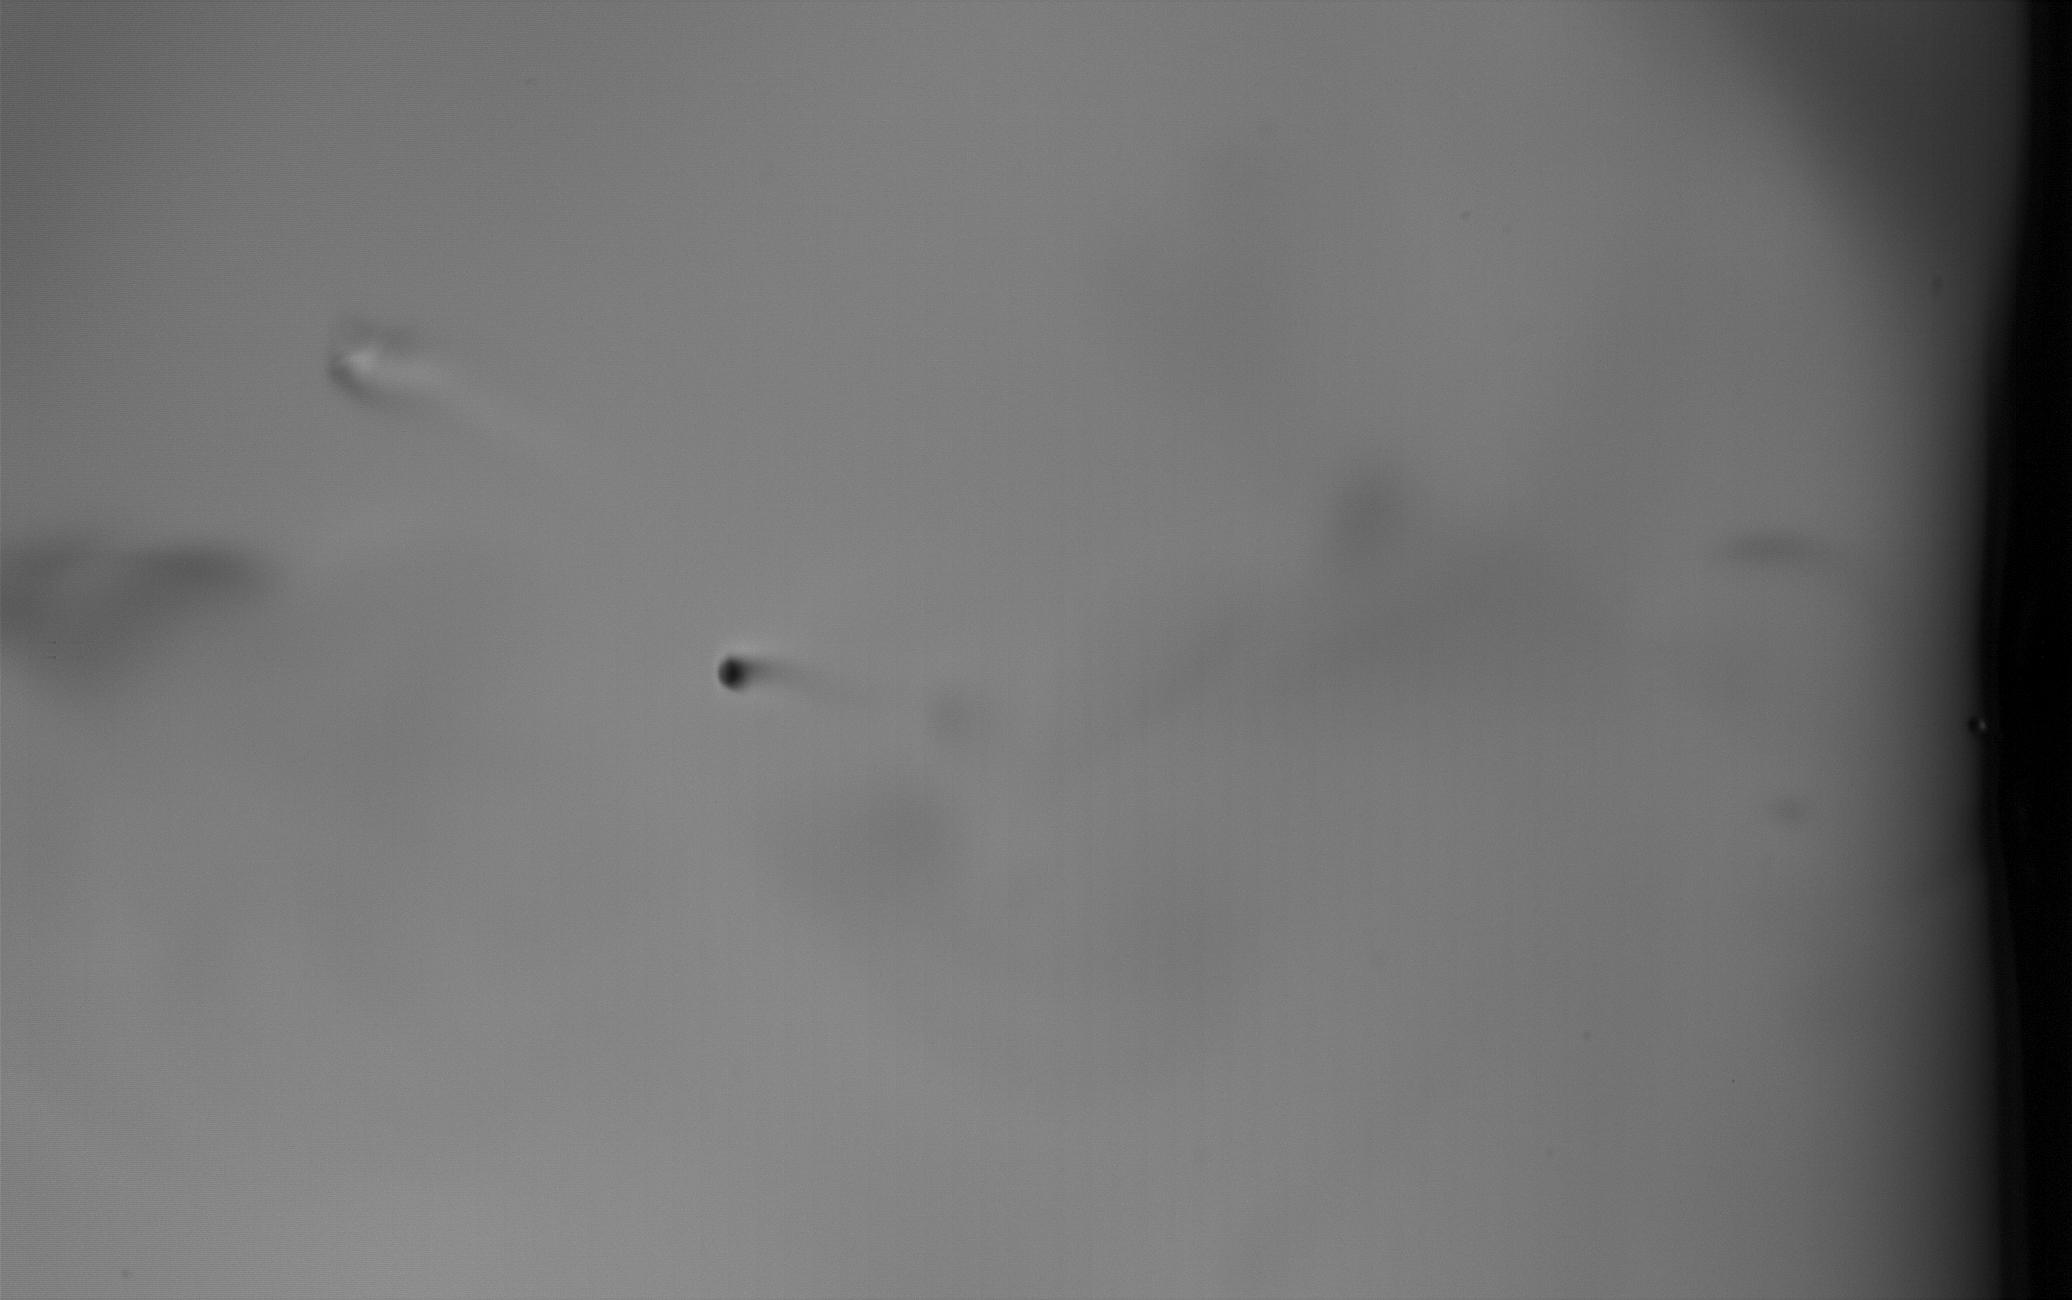ClassicalEvaporation: (714, 654, 749, 689)
